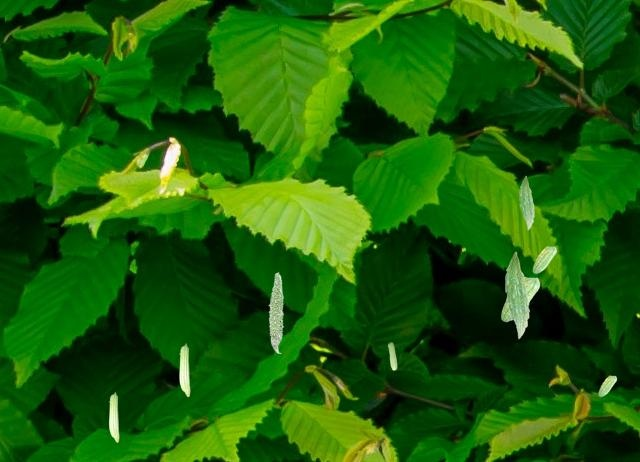ampalaya: (504, 251, 530, 339), (500, 276, 540, 322), (268, 271, 284, 354), (519, 175, 535, 230), (532, 245, 557, 274), (179, 343, 190, 397), (108, 391, 119, 442), (598, 375, 617, 397), (387, 342, 397, 370)
